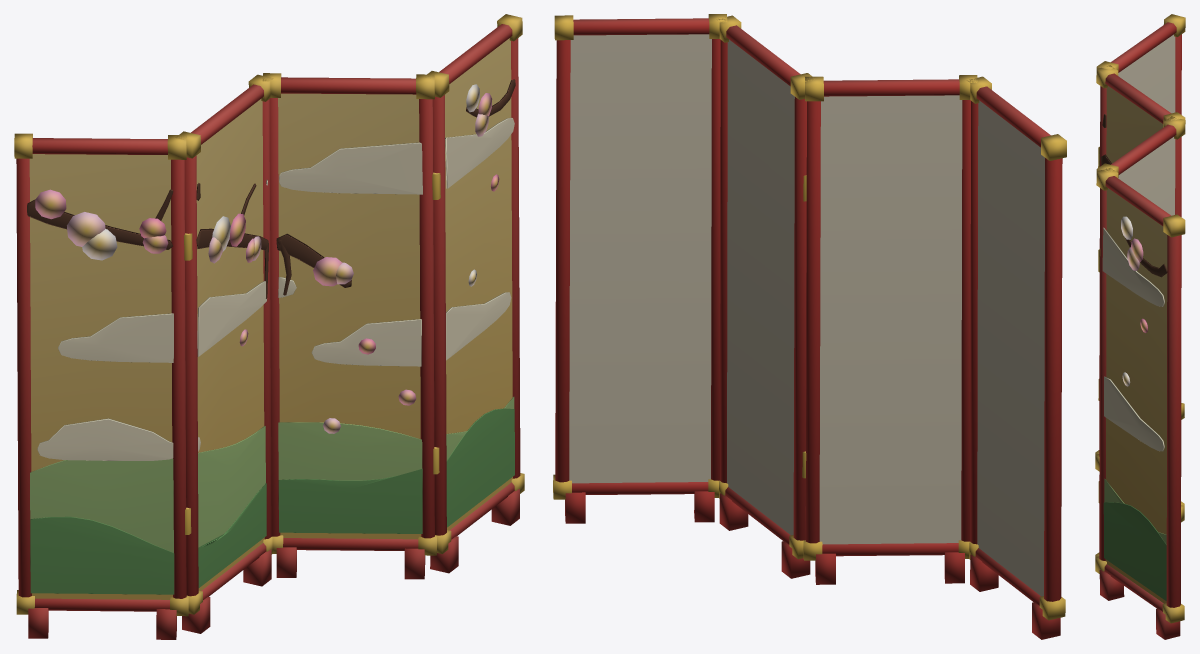
The model's file is furn-byobu.glb.
The picture shows the model from 3 angles, left to right: view 1: azimuth 30°, elevation 25°; view 2: azimuth 150°, elevation 25°; view 3: azimuth 270°, elevation 25°; orthographic projection. The views are drawn at different scales.
Visible parts, largest first — view 1: furn; view 2: furn; view 3: furn.
Boxes of the visible parts, x1=… form: furn: x1=14, y1=14, x2=524, y2=639; furn: x1=553, y1=14, x2=1066, y2=639; furn: x1=1095, y1=14, x2=1185, y2=639.
Bounding box in the file's own units: 1.48 × 1.38 × 0.2686.
